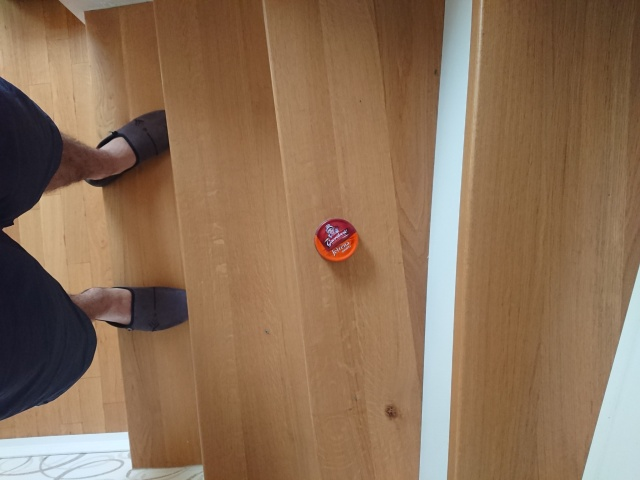Gavrilovic Pork Liver Pate 100g: (311, 215, 360, 264)
